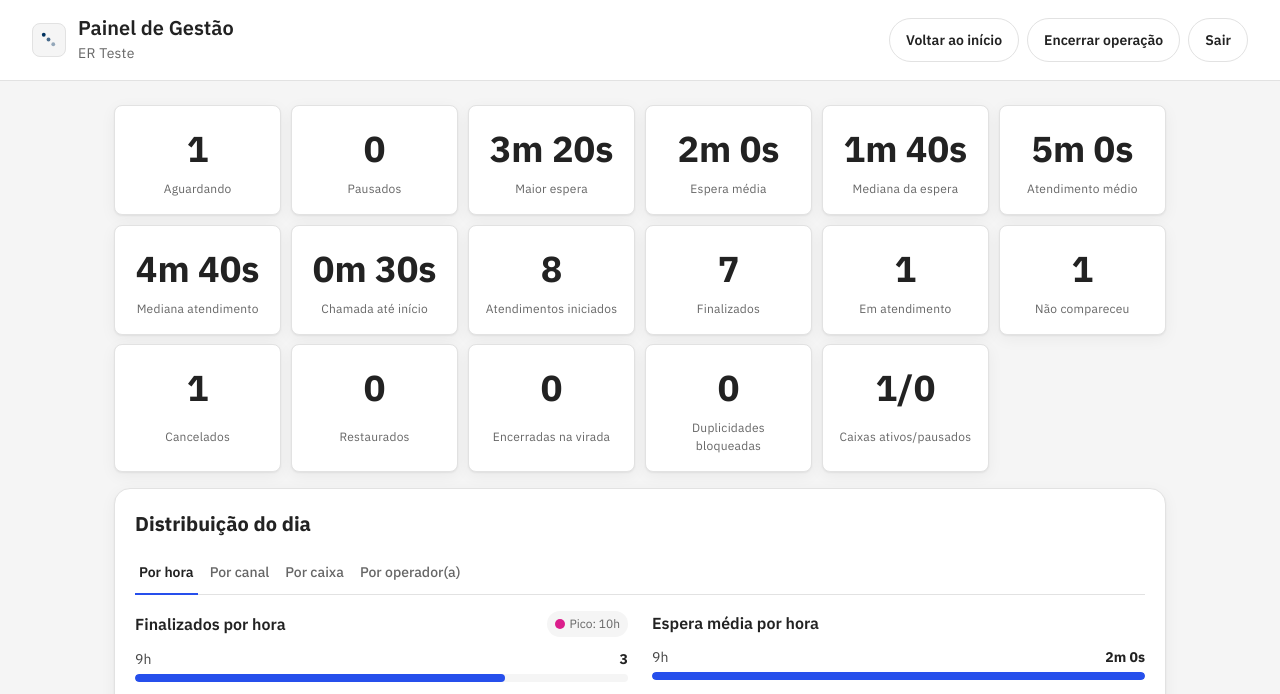
Test: ManagerPage › renders distribution rows when channel and counter keys diverge
The width and height of the screenshot is (1280, 694).
Expected: the heading "Distribuição do dia" is shown, [135,510,311,537]
Click the tab "Por caixa". click: (315, 573)
box: [281,551,348,595]
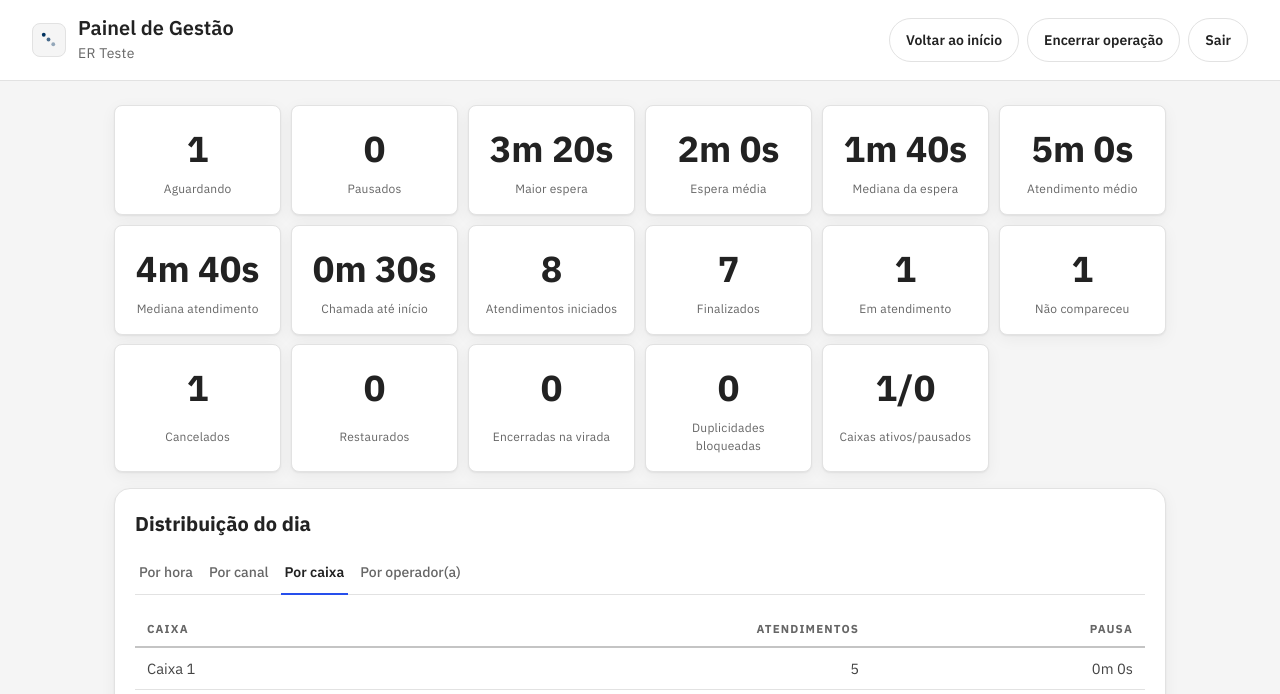
Expected: the text "Caixa 1" is shown, [135,647,403,690]
Click the tab "Por operador(a)". click: (411, 573)
box: [356,551,465,595]
(page scrolled)
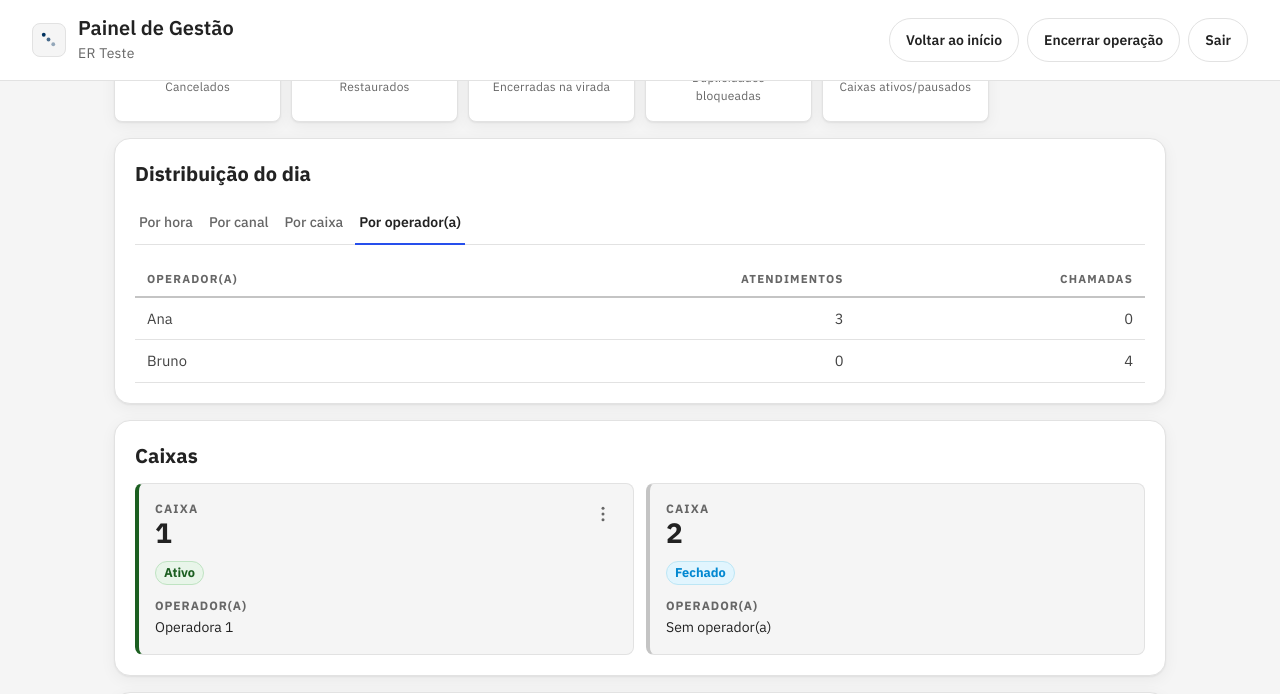
Expected: the text "Ana" is shown, [135,297,478,340]
Expected: the text "Bruno" is shown, [135,340,478,382]
